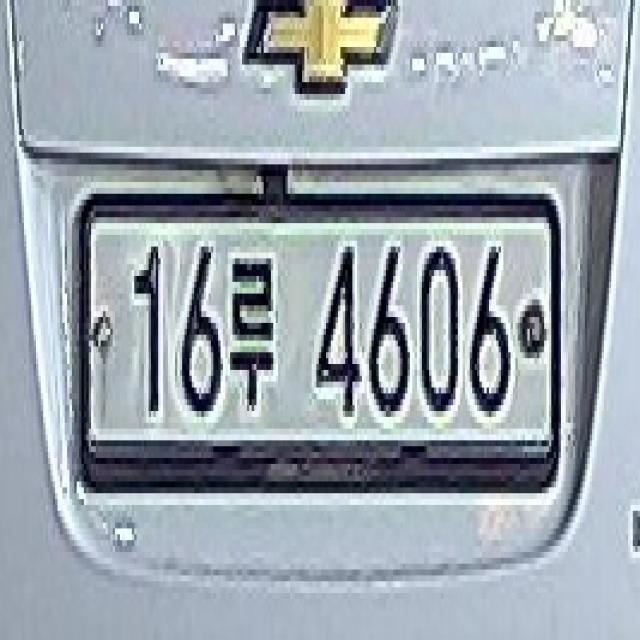0: (414, 229, 462, 434)
1: (120, 223, 170, 440)
4: (312, 235, 364, 440)
6: (170, 235, 228, 440), (463, 229, 515, 434), (367, 229, 412, 434)
license_plate: (70, 176, 564, 511)
lu: (228, 246, 278, 428)
